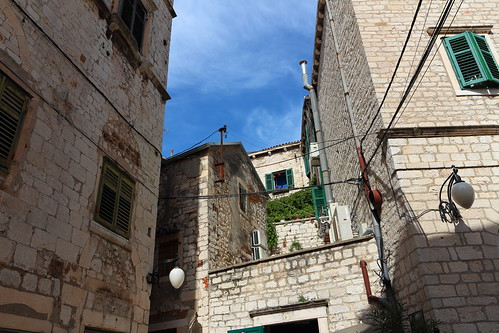building: (312, 1, 499, 326), (1, 1, 177, 327), (149, 145, 276, 333), (242, 147, 361, 333)
sky: (173, 1, 304, 134)
